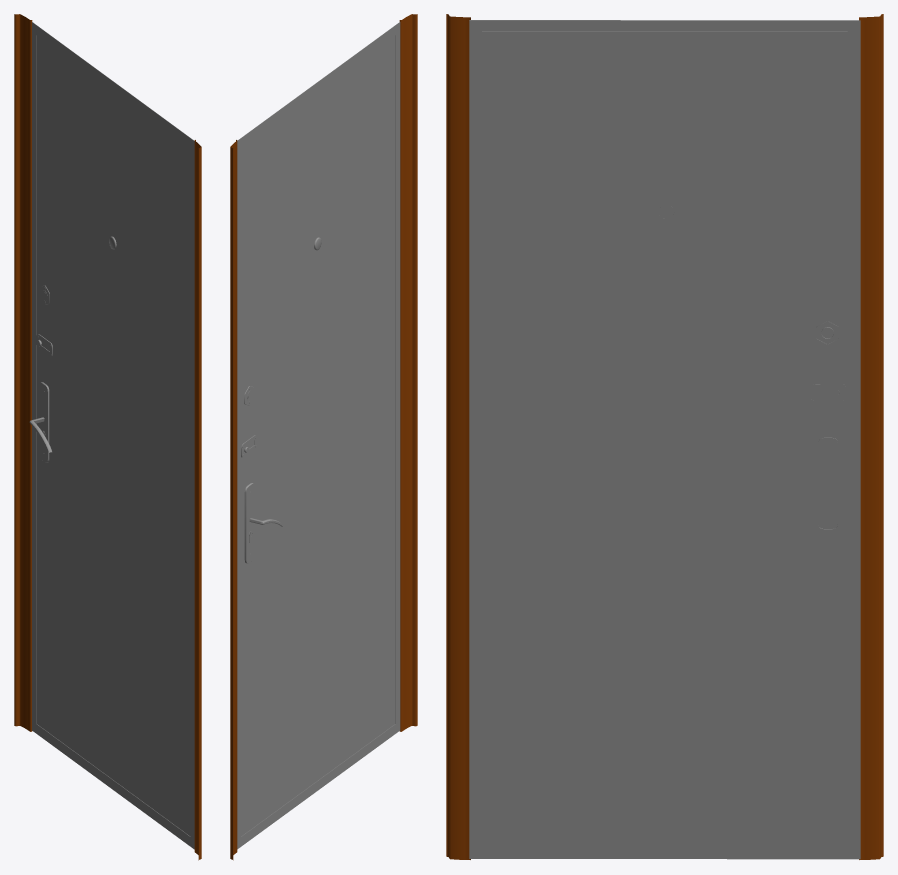
3 views of the same model, side by side, from view 1: azimuth 30°, elevation 25°; view 2: azimuth 150°, elevation 25°; view 3: azimuth 270°, elevation 25° (orthographic). The views are drawn at different scales.
Visible parts, largest first — view 1: maindoor; view 2: maindoor; view 3: maindoor.
Part boxes in pixels (left/top/right/bottom): maindoor: left=14, top=14, right=201, bottom=860; maindoor: left=230, top=14, right=417, bottom=860; maindoor: left=446, top=14, right=883, bottom=859.
Size of the model in its own units: 4.33 by 186 by 87.43.
